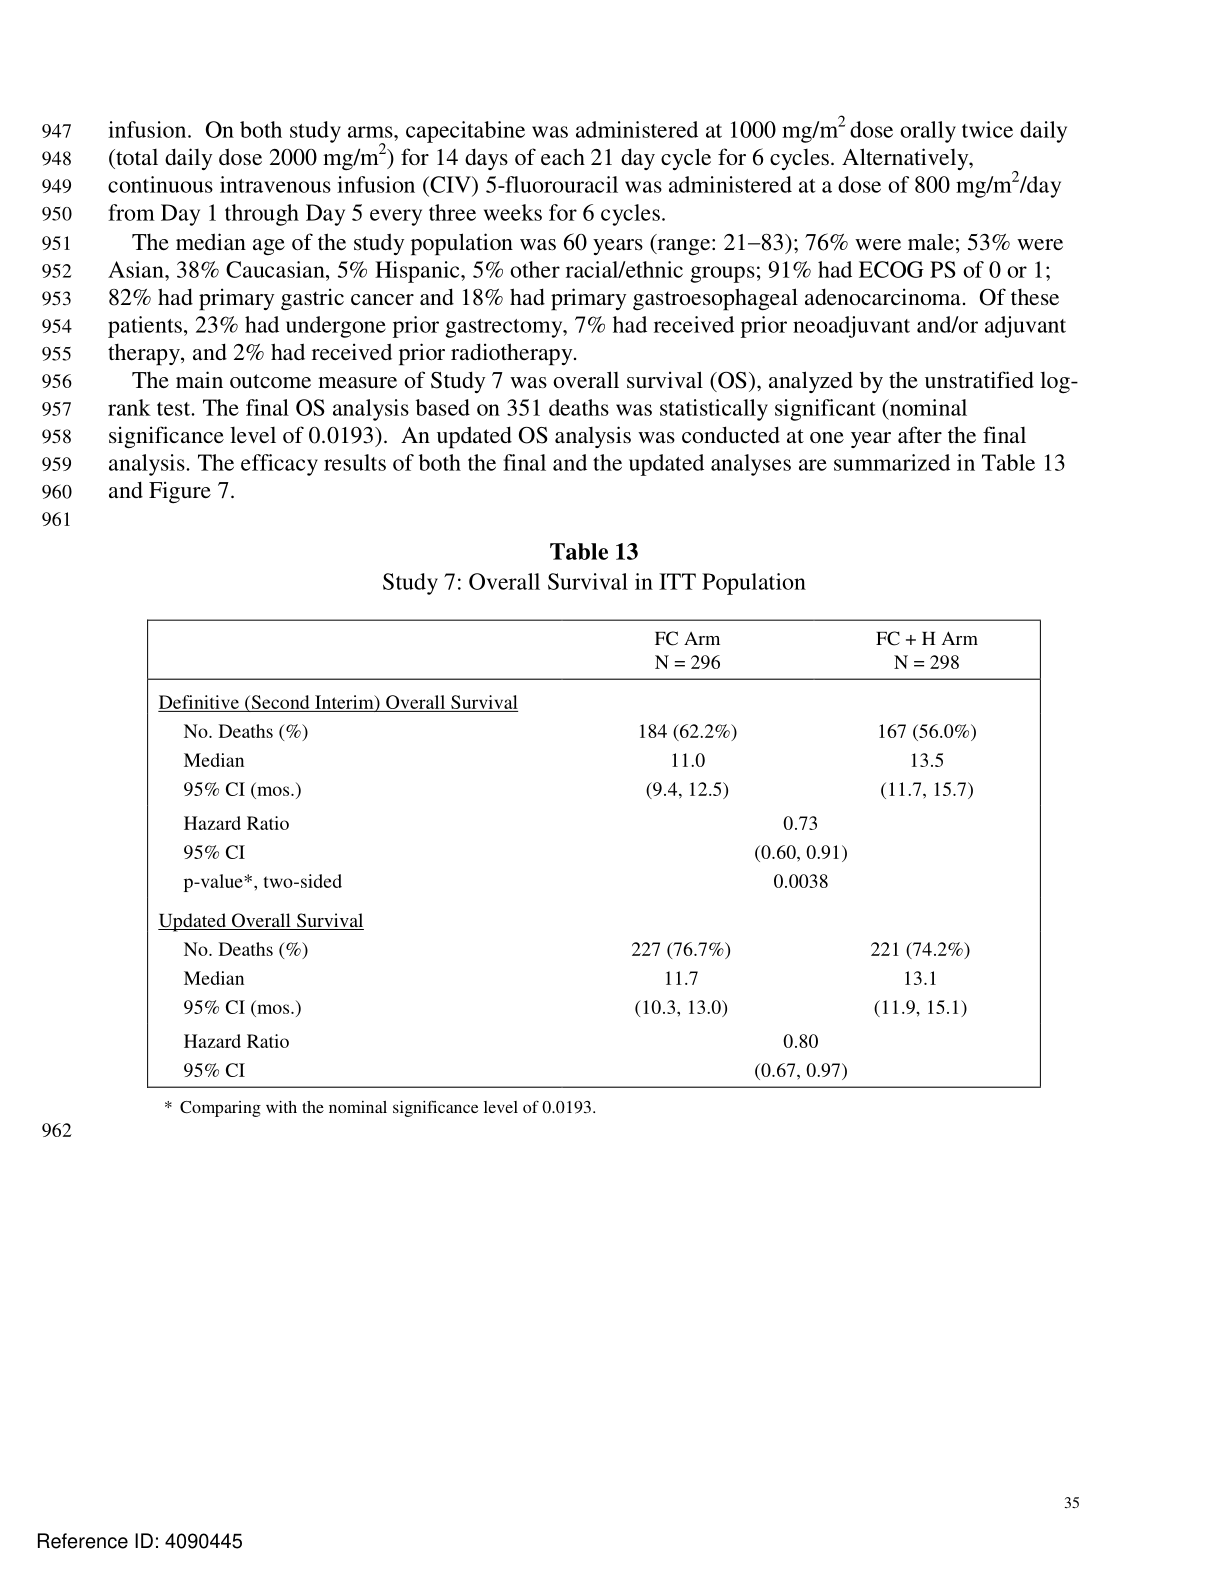partial_lined: (147, 618, 1043, 1092)
